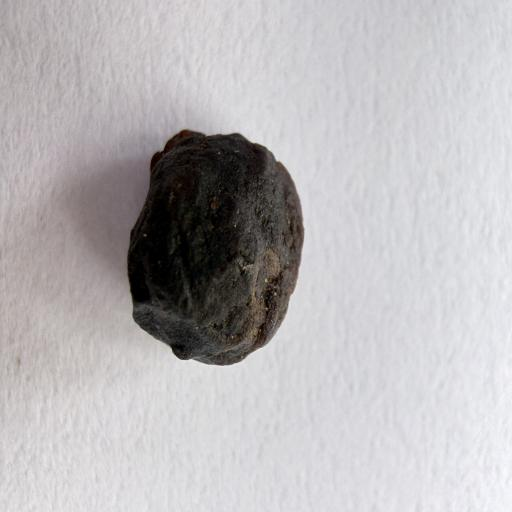Black_pepper: (94, 80, 358, 387)
